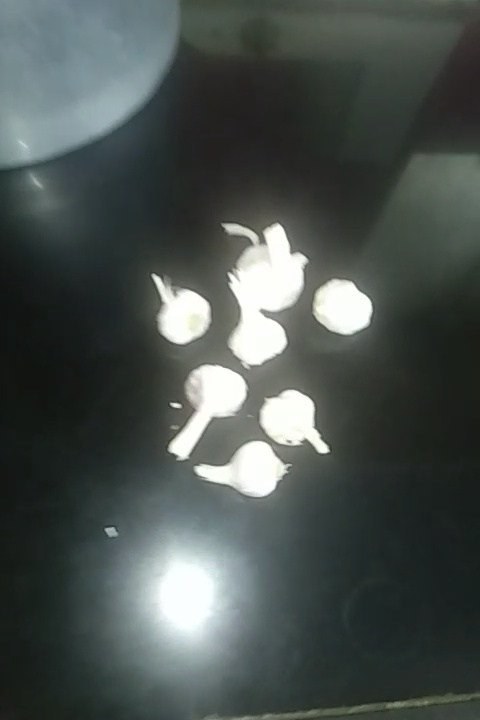garlic: (225, 219, 299, 319), (191, 440, 293, 503), (166, 365, 242, 449), (263, 387, 342, 457), (227, 287, 285, 368), (149, 267, 207, 346), (311, 283, 369, 345)
